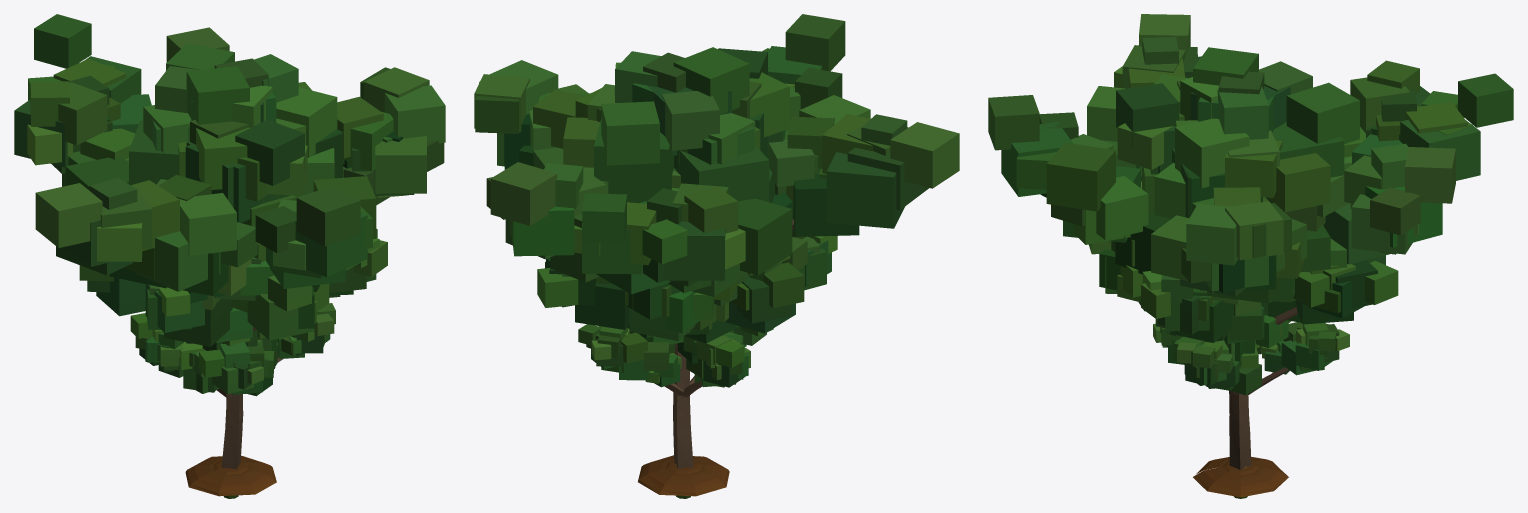
The model's file is avocado.glb.
The picture shows the model from 3 angles, left to right: view 1: azimuth 30°, elevation 25°; view 2: azimuth 150°, elevation 25°; view 3: azimuth 270°, elevation 25°; orthographic projection.
Visible parts, largest first — view 1: stage4_foliage, stage4_l1_foliage, stage3_foliage, stage2_foliage, stage2_soil, stage3_l1_foliage, stage2_l1_foliage, stage4_l1_bark, stage4_bark; view 2: stage4_foliage, stage4_l1_foliage, stage3_foliage, stage2_foliage, stage3_l1_foliage, stage2_soil, stage4_bark, stage4_l1_bark; view 3: stage4_foliage, stage4_l1_foliage, stage3_foliage, stage2_foliage, stage2_soil, stage3_l1_foliage, stage2_l1_foliage, stage4_bark, stage4_l1_bark.
Part boxes in pixels (bbox=[...]): stage4_foliage: bbox=[14, 27, 445, 303]; stage4_l1_foliage: bbox=[34, 14, 444, 300]; stage3_foliage: bbox=[145, 228, 387, 346]; stage2_foliage: bbox=[130, 312, 334, 396]; stage2_soil: bbox=[185, 455, 276, 496]; stage3_l1_foliage: bbox=[79, 265, 376, 316]; stage2_l1_foliage: bbox=[145, 303, 335, 393]; stage4_l1_bark: bbox=[221, 393, 243, 469]; stage4_bark: bbox=[225, 394, 242, 463]; stage4_foliage: bbox=[474, 14, 959, 305]; stage4_l1_foliage: bbox=[504, 47, 870, 300]; stage3_foliage: bbox=[537, 229, 837, 343]; stage2_foliage: bbox=[578, 324, 773, 387]; stage3_l1_foliage: bbox=[672, 168, 807, 333]; stage2_soil: bbox=[638, 455, 729, 496]; stage4_bark: bbox=[673, 219, 794, 468]; stage4_l1_bark: bbox=[673, 343, 693, 467]; stage4_foliage: bbox=[988, 14, 1464, 303]; stage4_l1_foliage: bbox=[1087, 47, 1513, 302]; stage3_foliage: bbox=[1088, 197, 1398, 343]; stage2_foliage: bbox=[1153, 302, 1349, 395]; stage2_soil: bbox=[1193, 456, 1288, 497]; stage3_l1_foliage: bbox=[1165, 289, 1264, 343]; stage2_l1_foliage: bbox=[1190, 340, 1261, 388]; stage4_bark: bbox=[1229, 390, 1251, 469]; stage4_l1_bark: bbox=[1229, 394, 1249, 468].
Bounding box in the file's own units: 2.56 × 2.49 × 2.78.
